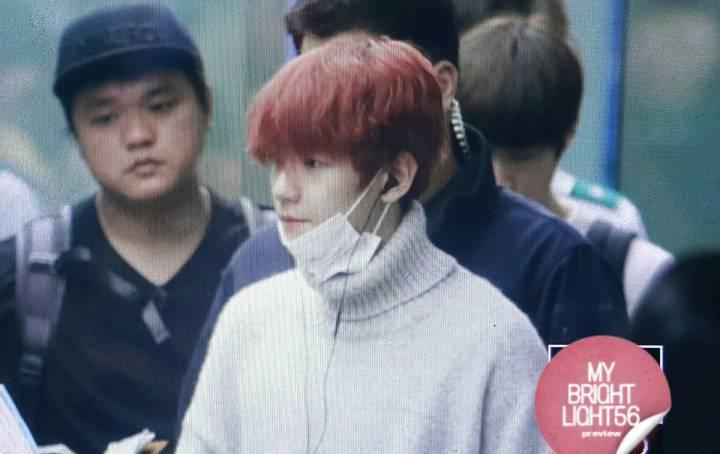NONE: (78, 80, 196, 197)
WRONG: (266, 138, 392, 264)
